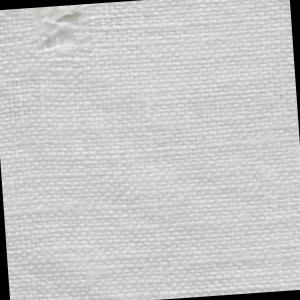Damage: (18, 4, 103, 62)
